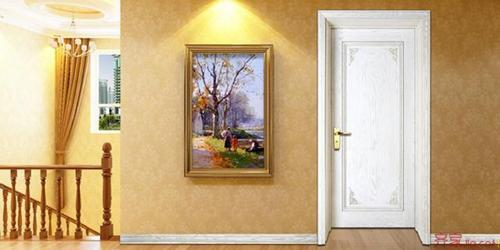door: (331, 28, 414, 226)
